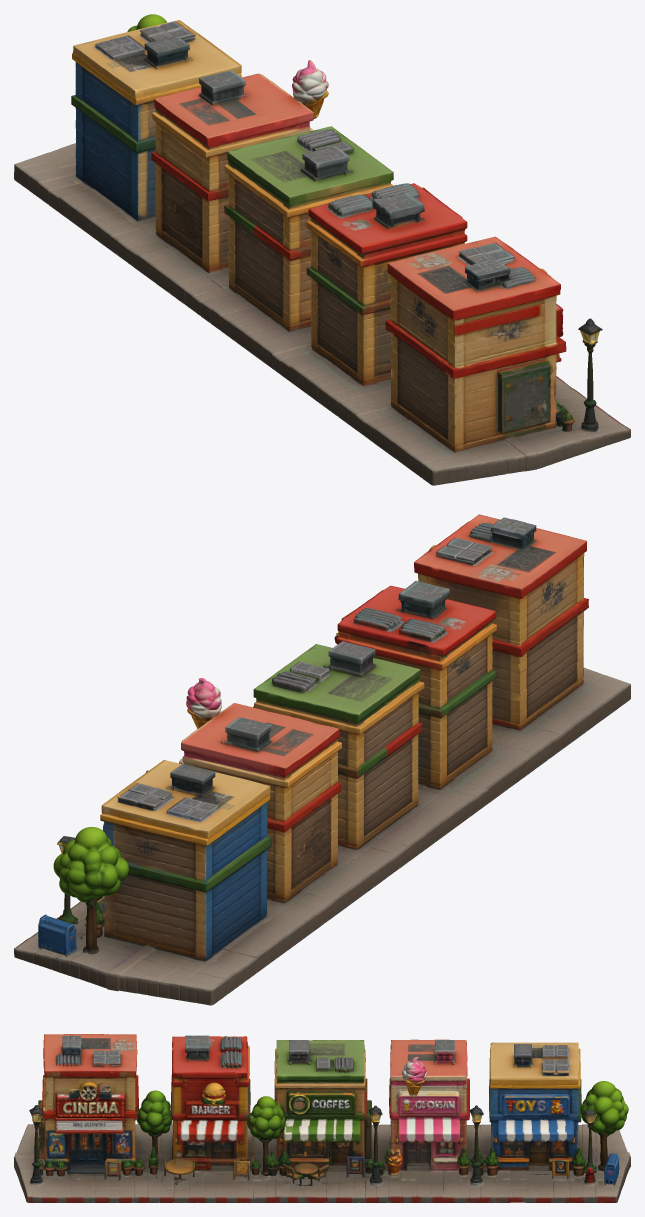
The model's file is city_right.glb.
The picture shows the model from 3 angles, top to bottom: view 1: azimuth 30°, elevation 25°; view 2: azimuth 150°, elevation 25°; view 3: azimuth 270°, elevation 25°; orthographic projection. The views are drawn at different scales.
Visible parts, largest first — view 1: tripo_node_71443d57-f2cb-42a8-815a-d207c7706fbd; view 2: tripo_node_71443d57-f2cb-42a8-815a-d207c7706fbd; view 3: tripo_node_71443d57-f2cb-42a8-815a-d207c7706fbd.
Part boxes in pixels (x1,y1,x2,y2): tripo_node_71443d57-f2cb-42a8-815a-d207c7706fbd: (14,14,630,485); tripo_node_71443d57-f2cb-42a8-815a-d207c7706fbd: (14,514,630,1005); tripo_node_71443d57-f2cb-42a8-815a-d207c7706fbd: (14,1034,630,1202).
Size of the model in its own units: 0.2568 by 0.2288 by 0.9786.
Materials: 1 (1 with a texture image).
